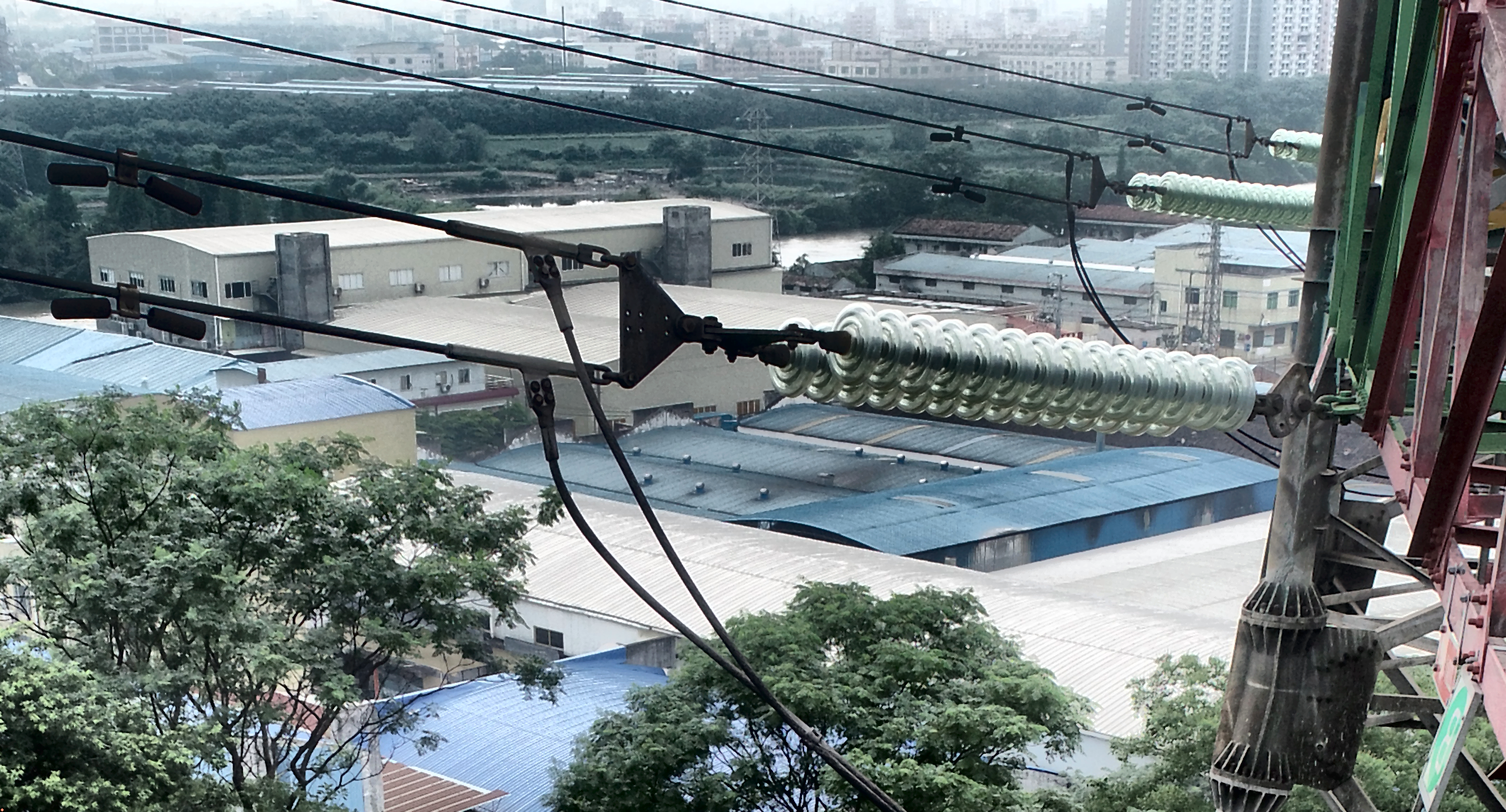damper: (43, 143, 204, 219), (43, 280, 210, 344), (925, 172, 989, 202), (1124, 94, 1171, 117), (1125, 131, 1170, 155)
damper_defect: (926, 122, 973, 147)
